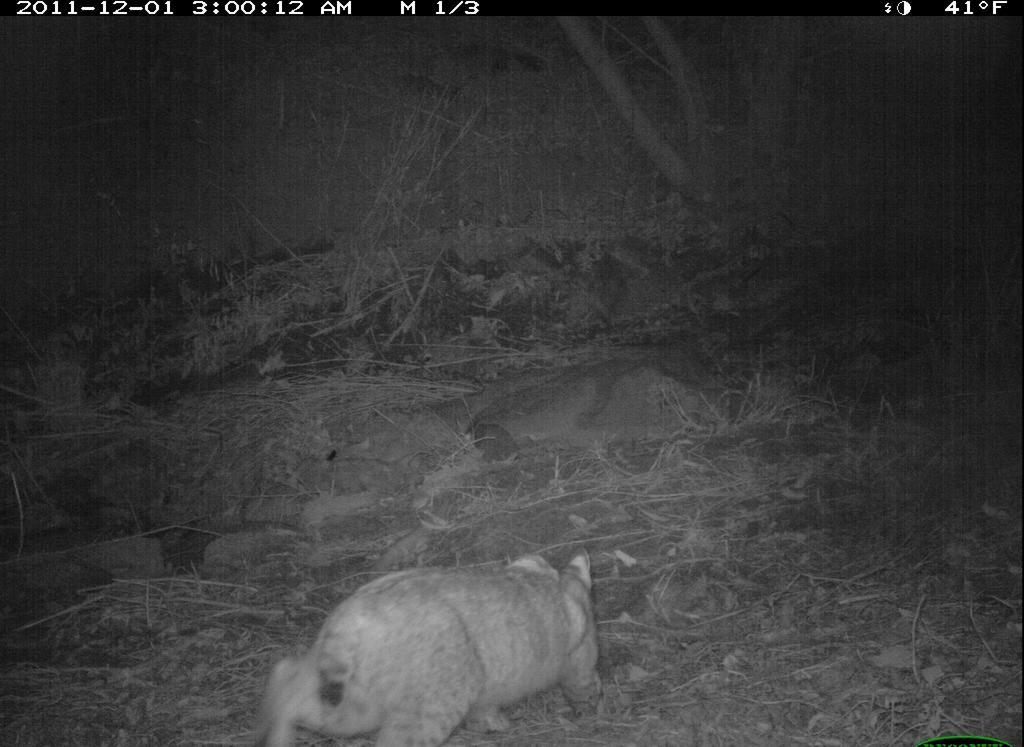bobcat: (240, 536, 621, 743)
